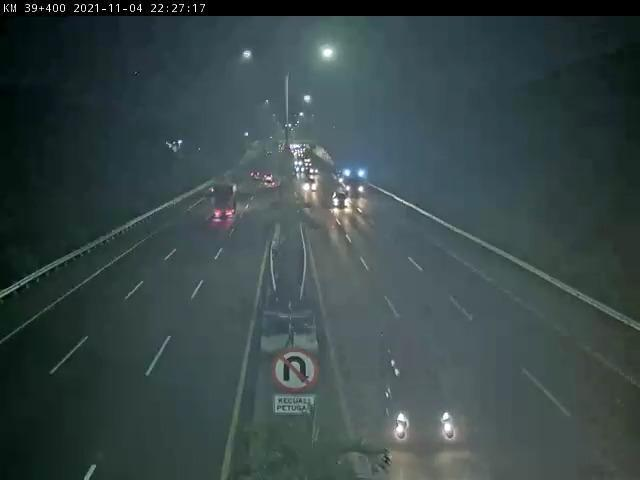car: (378, 318, 458, 446), (262, 178, 278, 192)
truck: (210, 181, 240, 222)
